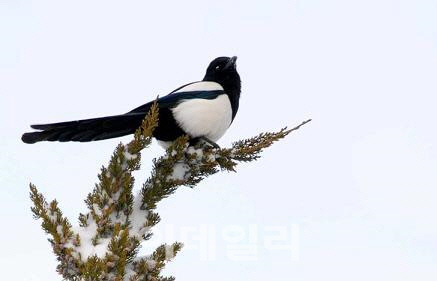magpie: (18, 55, 243, 148)
